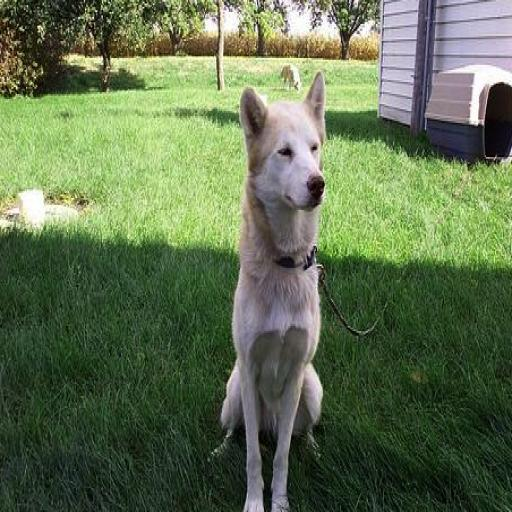dog_face: (239, 75, 334, 212)
